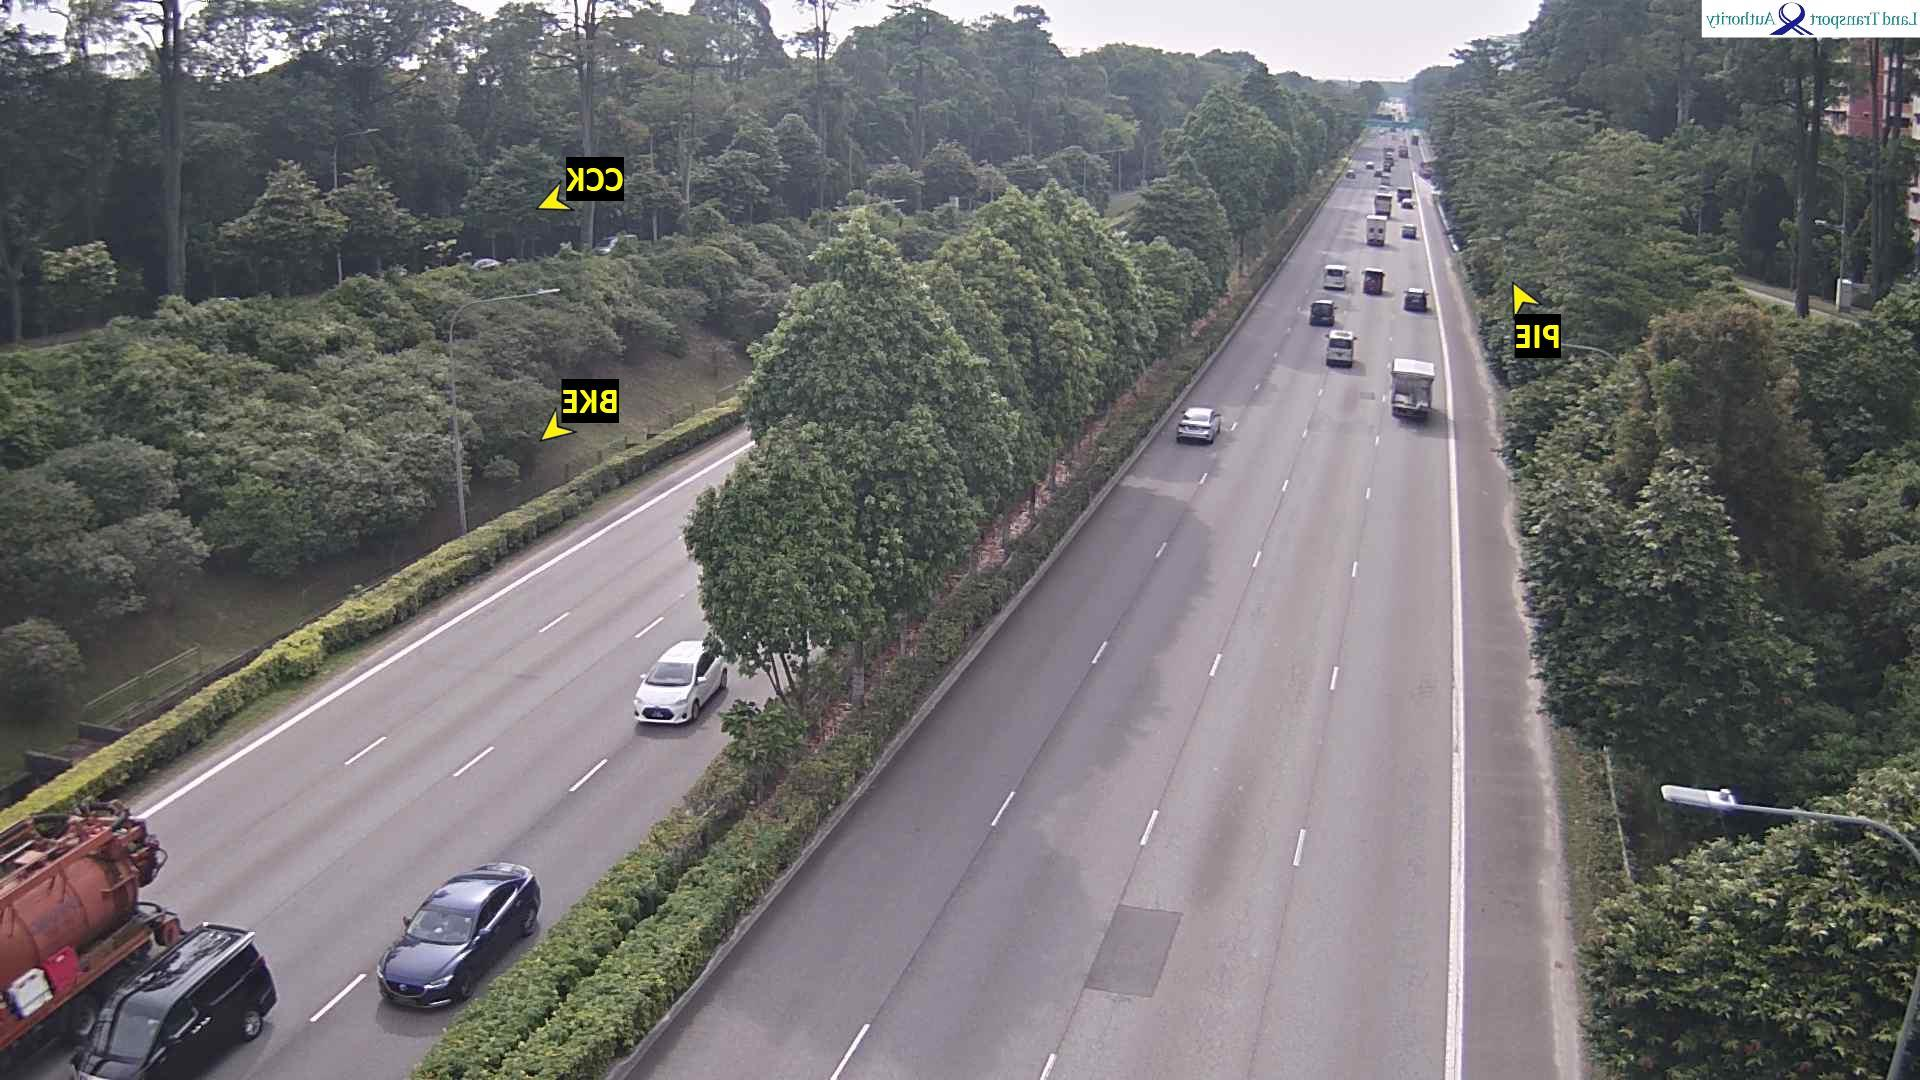cars: (71, 921, 278, 1078), (377, 860, 543, 1010), (634, 638, 730, 726), (1389, 356, 1437, 417), (1177, 405, 1224, 443), (1327, 328, 1358, 366), (595, 232, 639, 256), (1310, 298, 1338, 325), (1324, 262, 1350, 289), (1404, 287, 1430, 311), (1363, 267, 1386, 294), (1367, 215, 1387, 245), (1374, 192, 1394, 216), (1398, 186, 1417, 208), (474, 257, 502, 270), (1383, 147, 1397, 168), (1402, 222, 1419, 239), (1419, 164, 1434, 179), (1399, 140, 1411, 157), (1411, 130, 1422, 143), (1366, 160, 1377, 172), (1346, 167, 1357, 178)
trucks: (2, 800, 169, 988)
